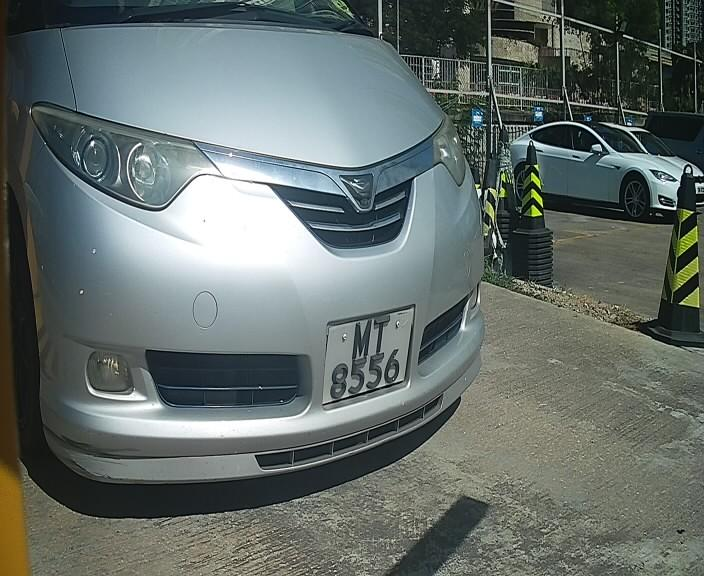License Plate: (318, 296, 428, 420)
